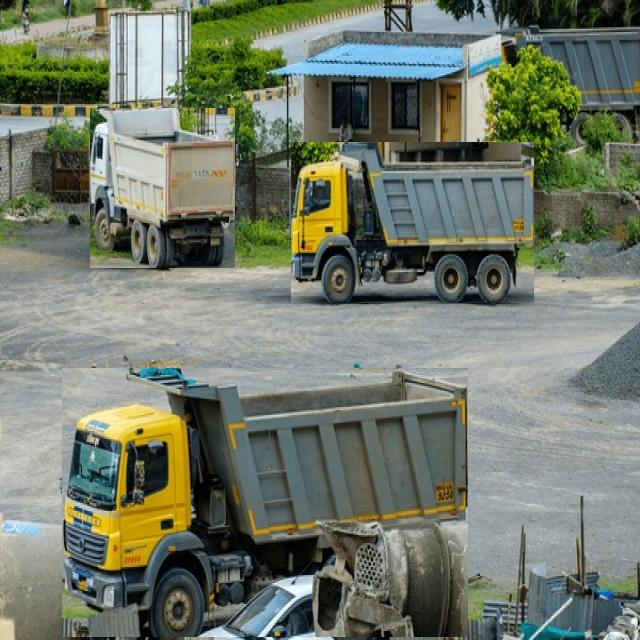car: (216, 578, 330, 640)
truck: (62, 369, 468, 637), (291, 143, 534, 303), (90, 109, 235, 268), (512, 26, 640, 142)
